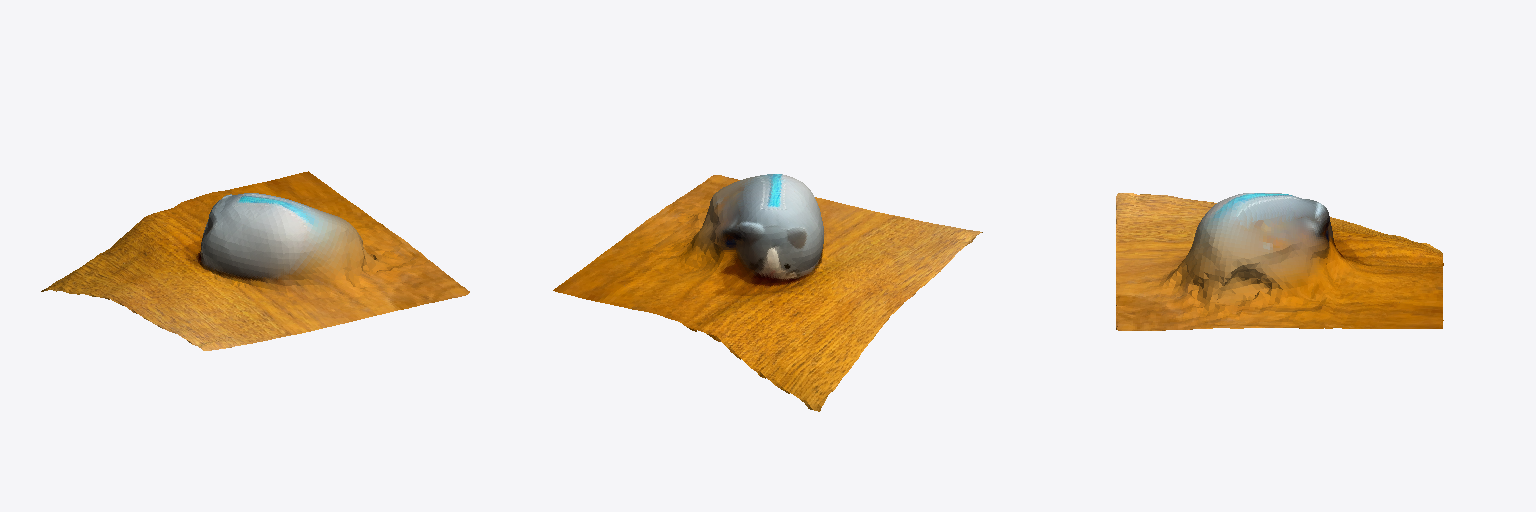
3 renders of one model, left to right at view 1: azimuth 30°, elevation 25°; view 2: azimuth 150°, elevation 25°; view 3: azimuth 270°, elevation 25°, orthographic.
Size of the model in its own units: 0.2077 by 0.0942 by 0.2195.
1 materials, 1 textured.